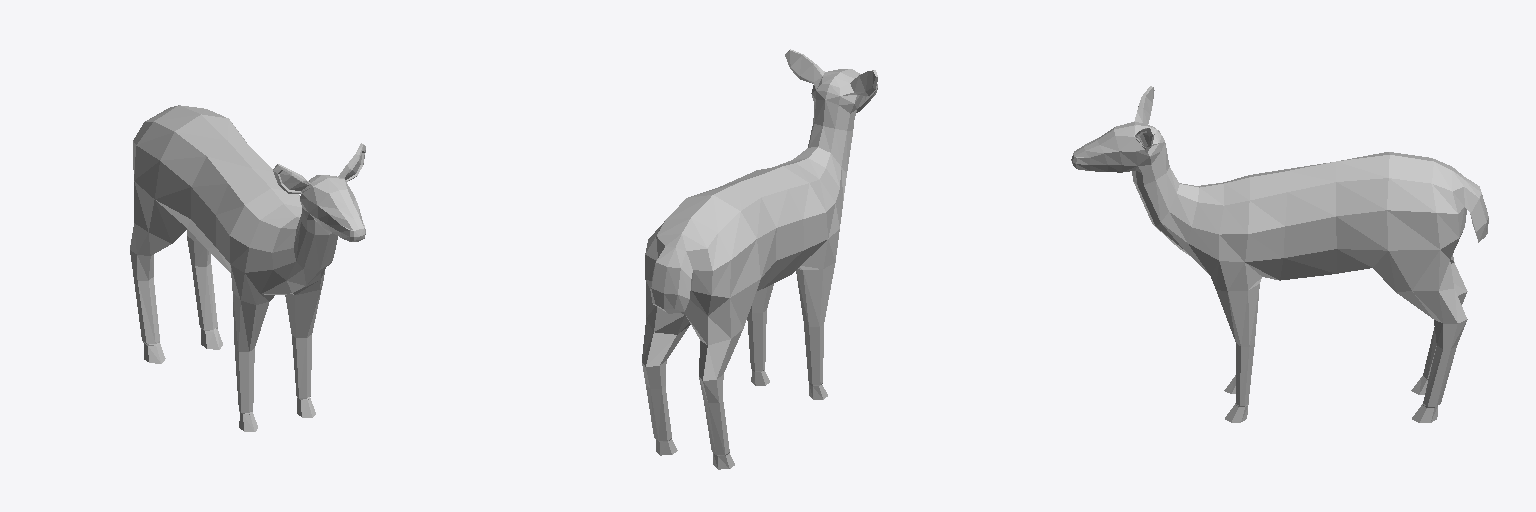
File: deer.obj
3 views of the same model, side by side, from view 1: azimuth 30°, elevation 25°; view 2: azimuth 150°, elevation 25°; view 3: azimuth 270°, elevation 25° (orthographic).
Visible parts, largest first — view 1: node-0_buffer-0-mesh-0; view 2: node-0_buffer-0-mesh-0; view 3: node-0_buffer-0-mesh-0.
Part boxes in pixels (x1,y1,x2,y2): node-0_buffer-0-mesh-0: (130,105,365,431); node-0_buffer-0-mesh-0: (642,49,877,469); node-0_buffer-0-mesh-0: (1071,86,1488,422).
Size of the model in its own units: 3.42 by 10.34 by 13.13.